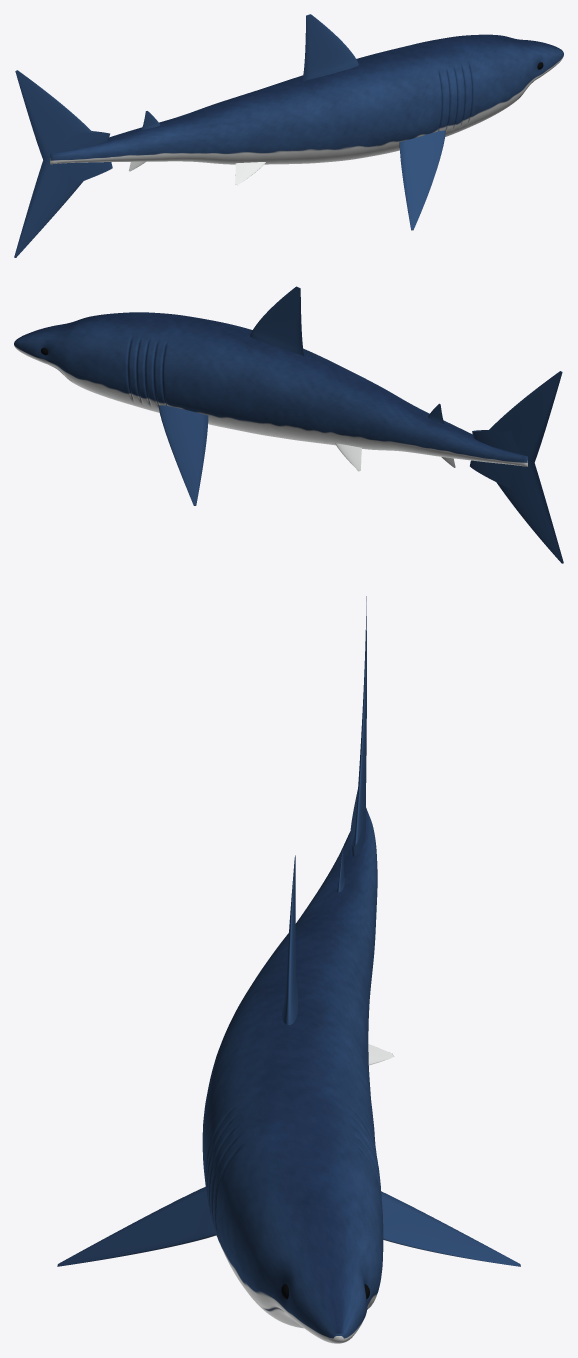
The model's file is shortfin_mako.glb.
3 views of the same model, one above another, from view 1: azimuth 30°, elevation 25°; view 2: azimuth 150°, elevation 25°; view 3: azimuth 270°, elevation 25° (orthographic). The views are drawn at different scales.
Parts seen in each view (by area): view 1: ShortfinMako_Body, ShortfinMako_Fins; view 2: ShortfinMako_Body, ShortfinMako_Fins; view 3: ShortfinMako_Body, ShortfinMako_Fins.
Part boxes in pixels (bbox=[...]): ShortfinMako_Body: bbox=[50, 34, 563, 164]; ShortfinMako_Fins: bbox=[14, 14, 445, 257]; ShortfinMako_Body: bbox=[14, 312, 527, 466]; ShortfinMako_Fins: bbox=[158, 286, 563, 563]; ShortfinMako_Body: bbox=[202, 808, 383, 1343]; ShortfinMako_Fins: bbox=[57, 596, 520, 1266].
Bounding box in the file's own units: 2.8 × 0.9344 × 1.04.
Materials: 3 (1 with a texture image).
